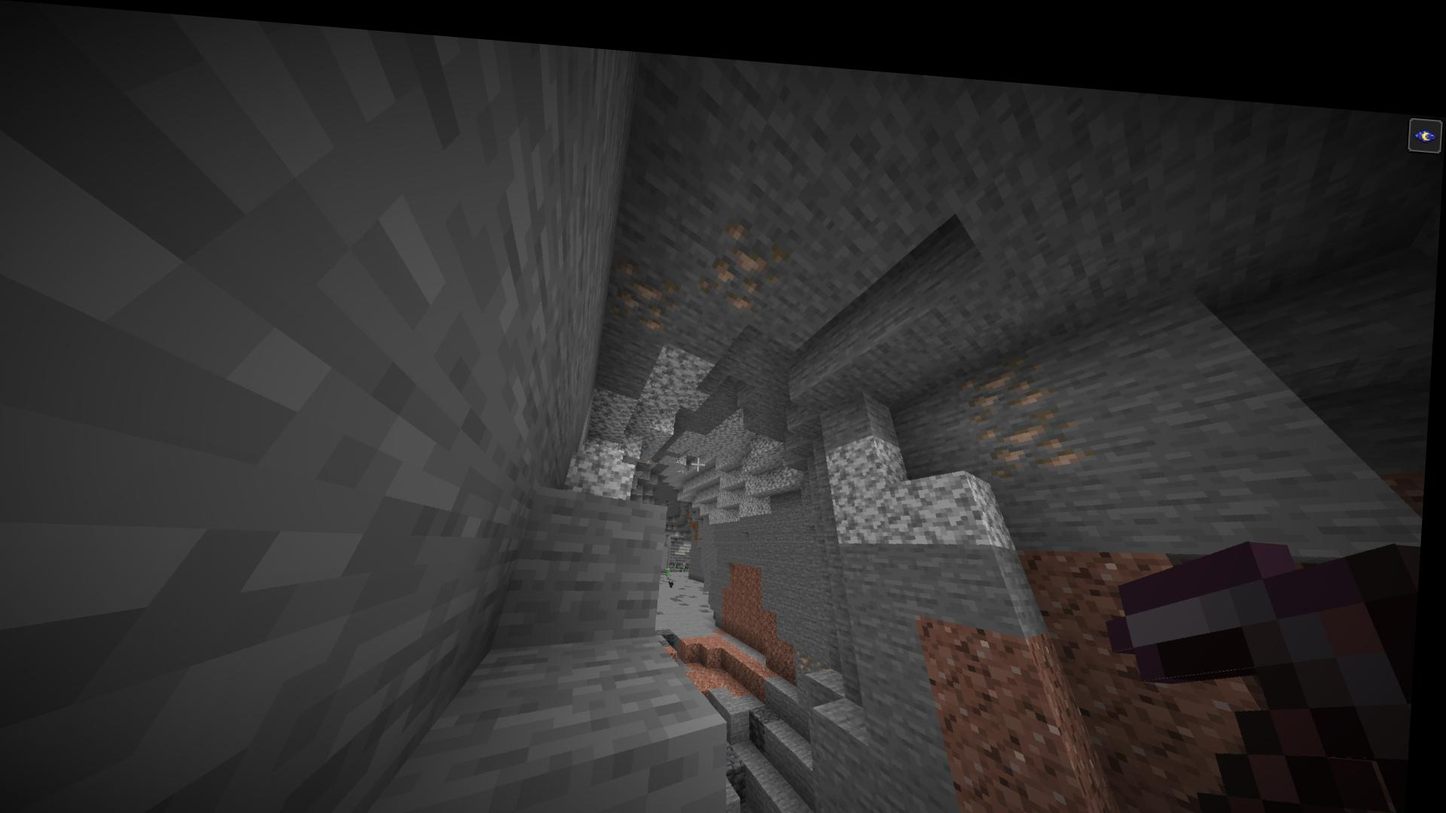iron ore: (692, 204, 792, 299), (601, 242, 681, 332), (988, 383, 1080, 461), (963, 332, 1056, 403)
